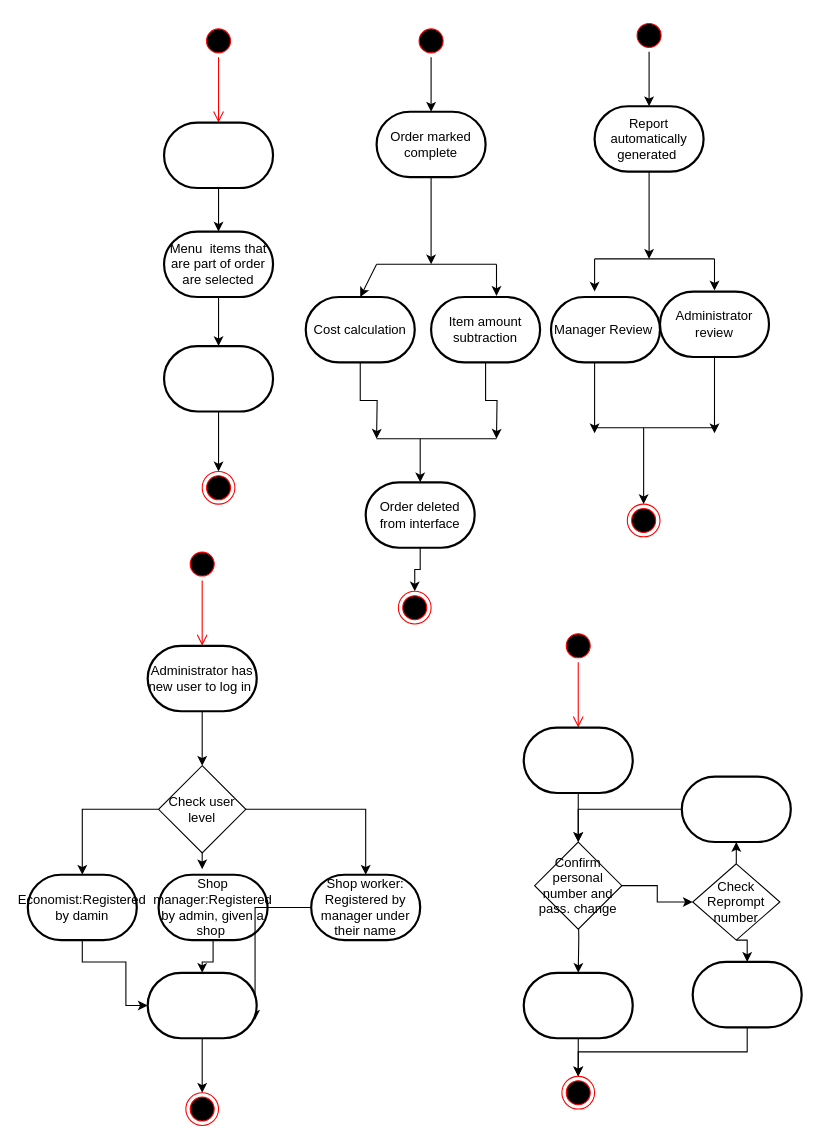
Some shapes in this 822 by 1145 pixel diagram are drawn without their labels. The centre of each missing label's shape, as x and y in pixels:
"Confirmed: User password changed" belongs at pixel 577 1005.
"Less than threshold repromts" belongs at pixel 735 809.
"More reprompts than threshold" belongs at pixel 746 994.
"New Order is created" belongs at pixel 218 155.
"Order added" belongs at pixel 218 378.
"Random password and password restore number" belongs at pixel 201 1005.
"User enters password change interface" belongs at pixel 577 760.
